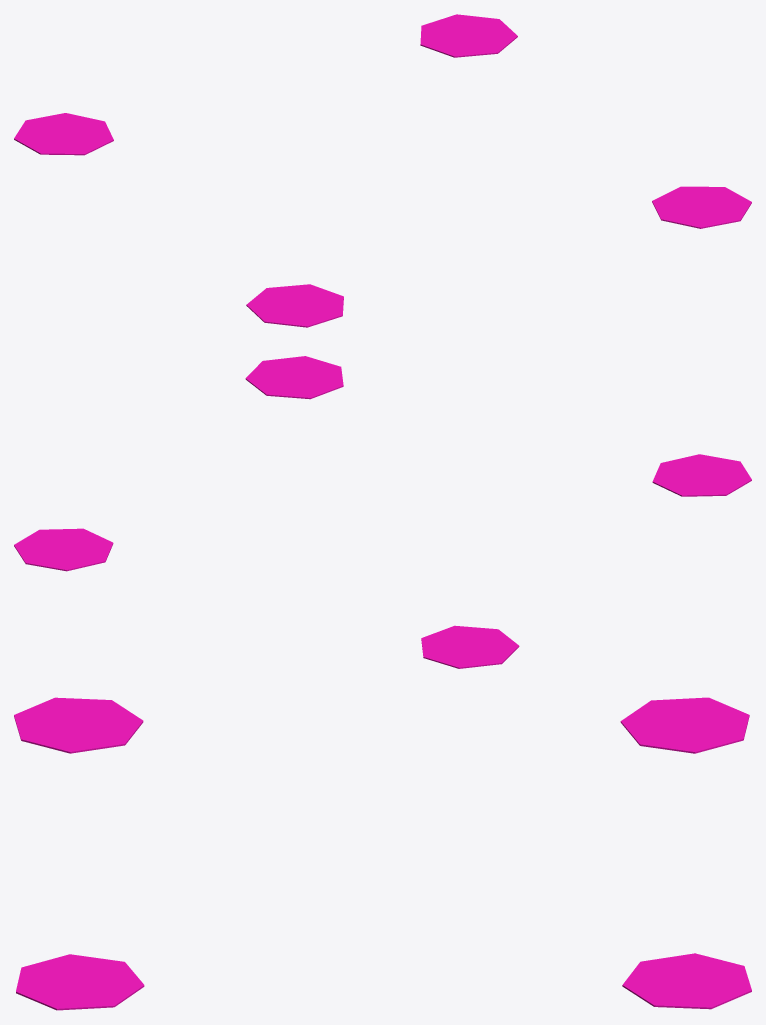
The model's file is zonaCheckpoint.fbx.
The picture shows the model from 3 angles, top to bottom: view 1: azimuth 30°, elevation 25°; view 2: azimuth 150°, elevation 25°; view 3: azimuth 270°, elevation 25°; orthographic projection. The views are drawn at different scales.
Parts seen in each view (by area): view 1: Curve.026, Curve.019, Curve.033, Curve.012; view 2: Curve.019, Curve.033, Curve.026, Curve.012; view 3: Curve.019, Curve.026, Curve.033, Curve.012.
Part boxes in pixels (bbox=[...]): Curve.026: bbox=[652, 186, 751, 228]; Curve.019: bbox=[420, 14, 517, 57]; Curve.033: bbox=[246, 284, 343, 327]; Curve.012: bbox=[14, 113, 113, 155]; Curve.019: bbox=[14, 528, 113, 571]; Curve.033: bbox=[652, 454, 751, 496]; Curve.026: bbox=[245, 356, 343, 399]; Curve.012: bbox=[421, 625, 519, 668]; Curve.019: bbox=[622, 953, 751, 1009]; Curve.026: bbox=[16, 954, 144, 1010]; Curve.033: bbox=[14, 697, 143, 753]; Curve.012: bbox=[620, 697, 749, 753].
Size of the model in its own units: 11703 by 27.77 by 11720.
